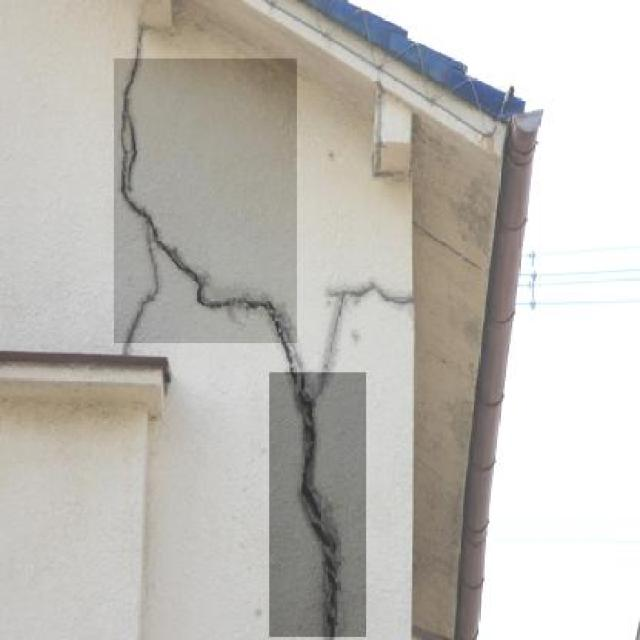Crack: (106, 20, 340, 375), (268, 379, 368, 635), (345, 274, 427, 362)
